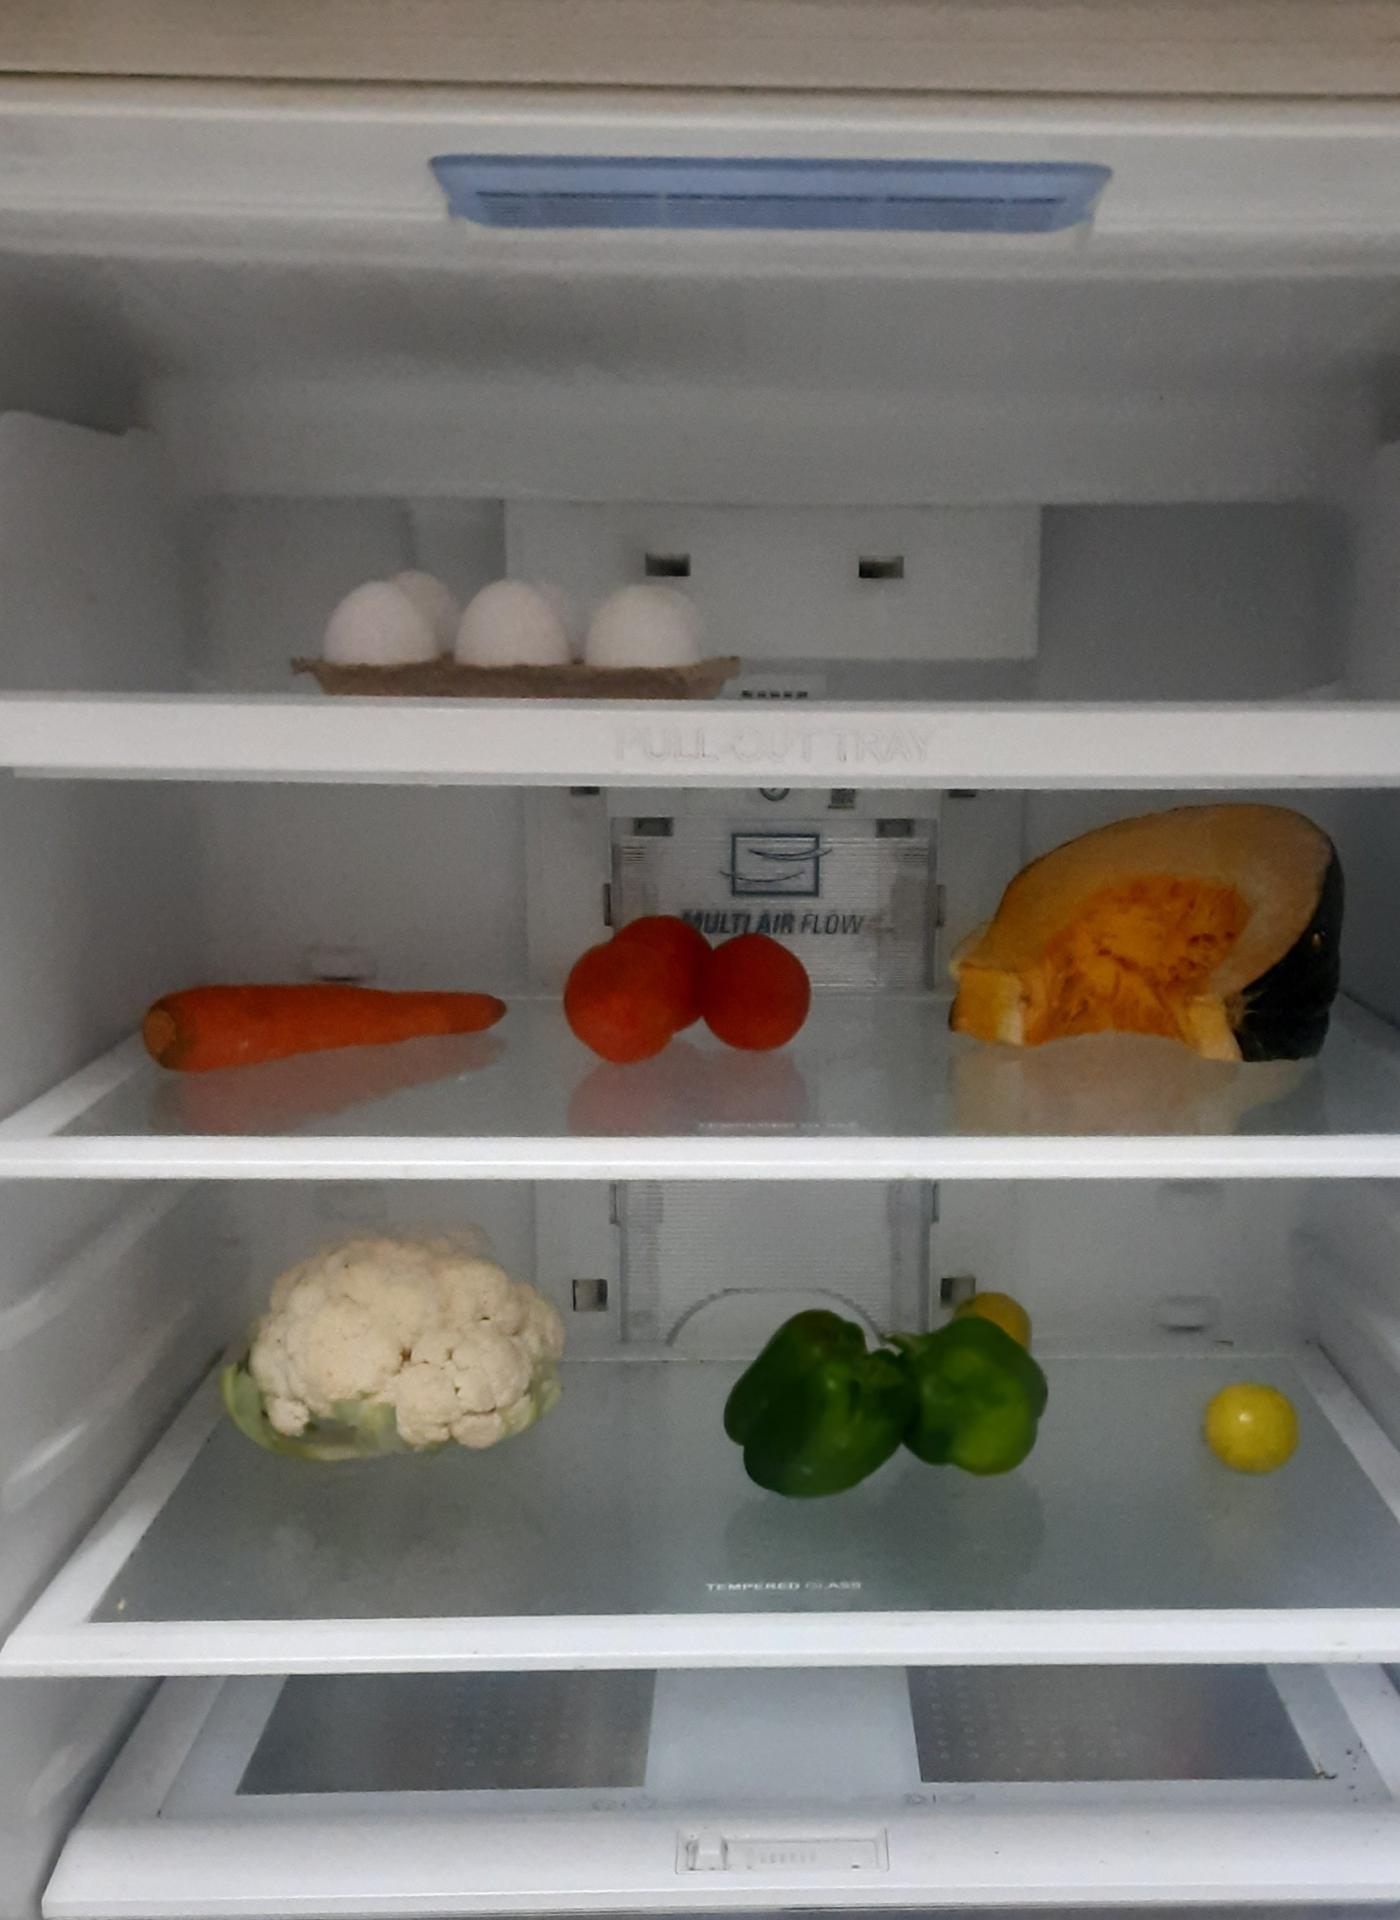capsicum: (719, 1318, 1048, 1500)
carrots: (146, 970, 513, 1072)
cauliflower: (230, 1230, 571, 1453)
egg: (328, 553, 716, 662)
lemon: (1200, 1382, 1303, 1479), (953, 1278, 1050, 1368)
pumpkin: (942, 795, 1348, 1055)
tomato: (561, 921, 816, 1066)
